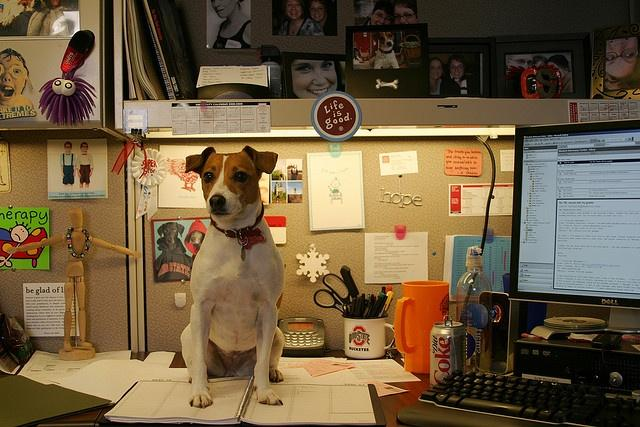AIO PC-Monitor-TV: (506, 117, 639, 311)
